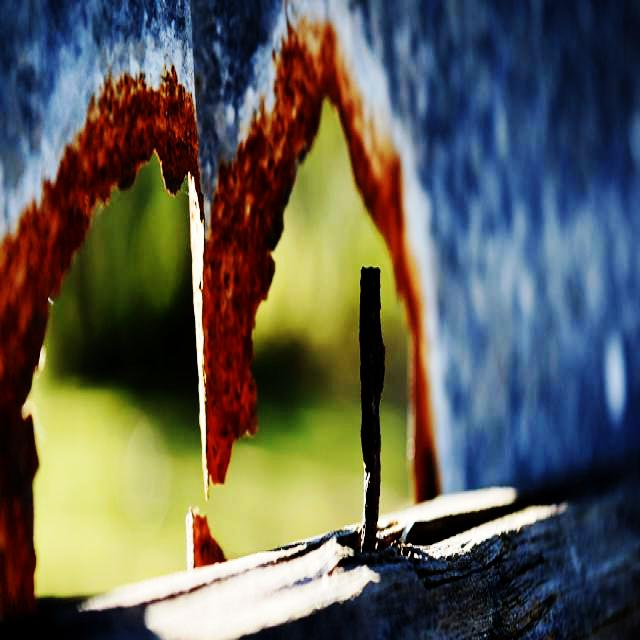Corrosion: (0, 68, 196, 410), (201, 27, 328, 484), (304, 22, 372, 142), (0, 406, 37, 622), (348, 121, 405, 254), (411, 317, 441, 502), (386, 240, 428, 356), (185, 509, 225, 572)
